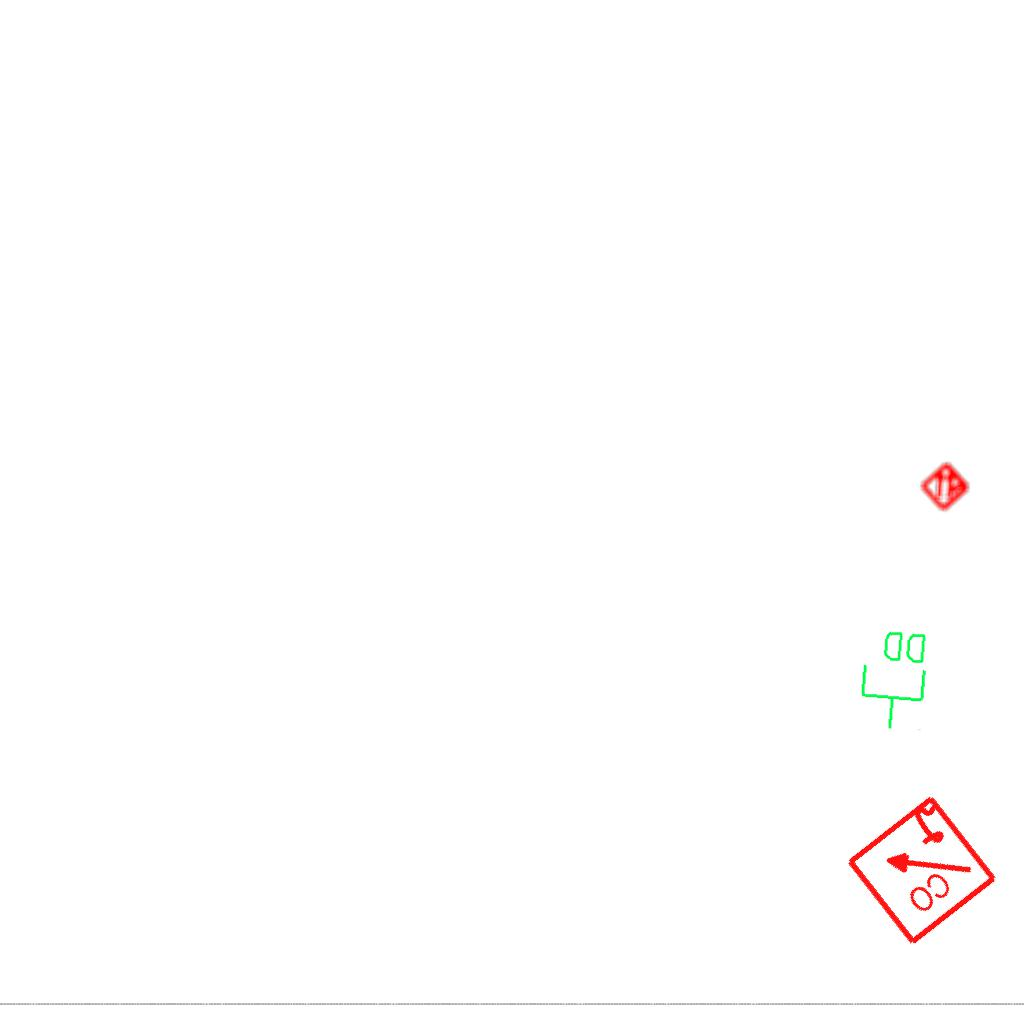Datenanschluss_zweifach: (855, 625, 934, 734)
OT_Multisensormelder_(Kombination_RMO_WMD): (906, 446, 986, 526)
ROA_Rauchmelder_optisch_mit_Signalgeber_(Sockelsirene): (841, 790, 1000, 949)
